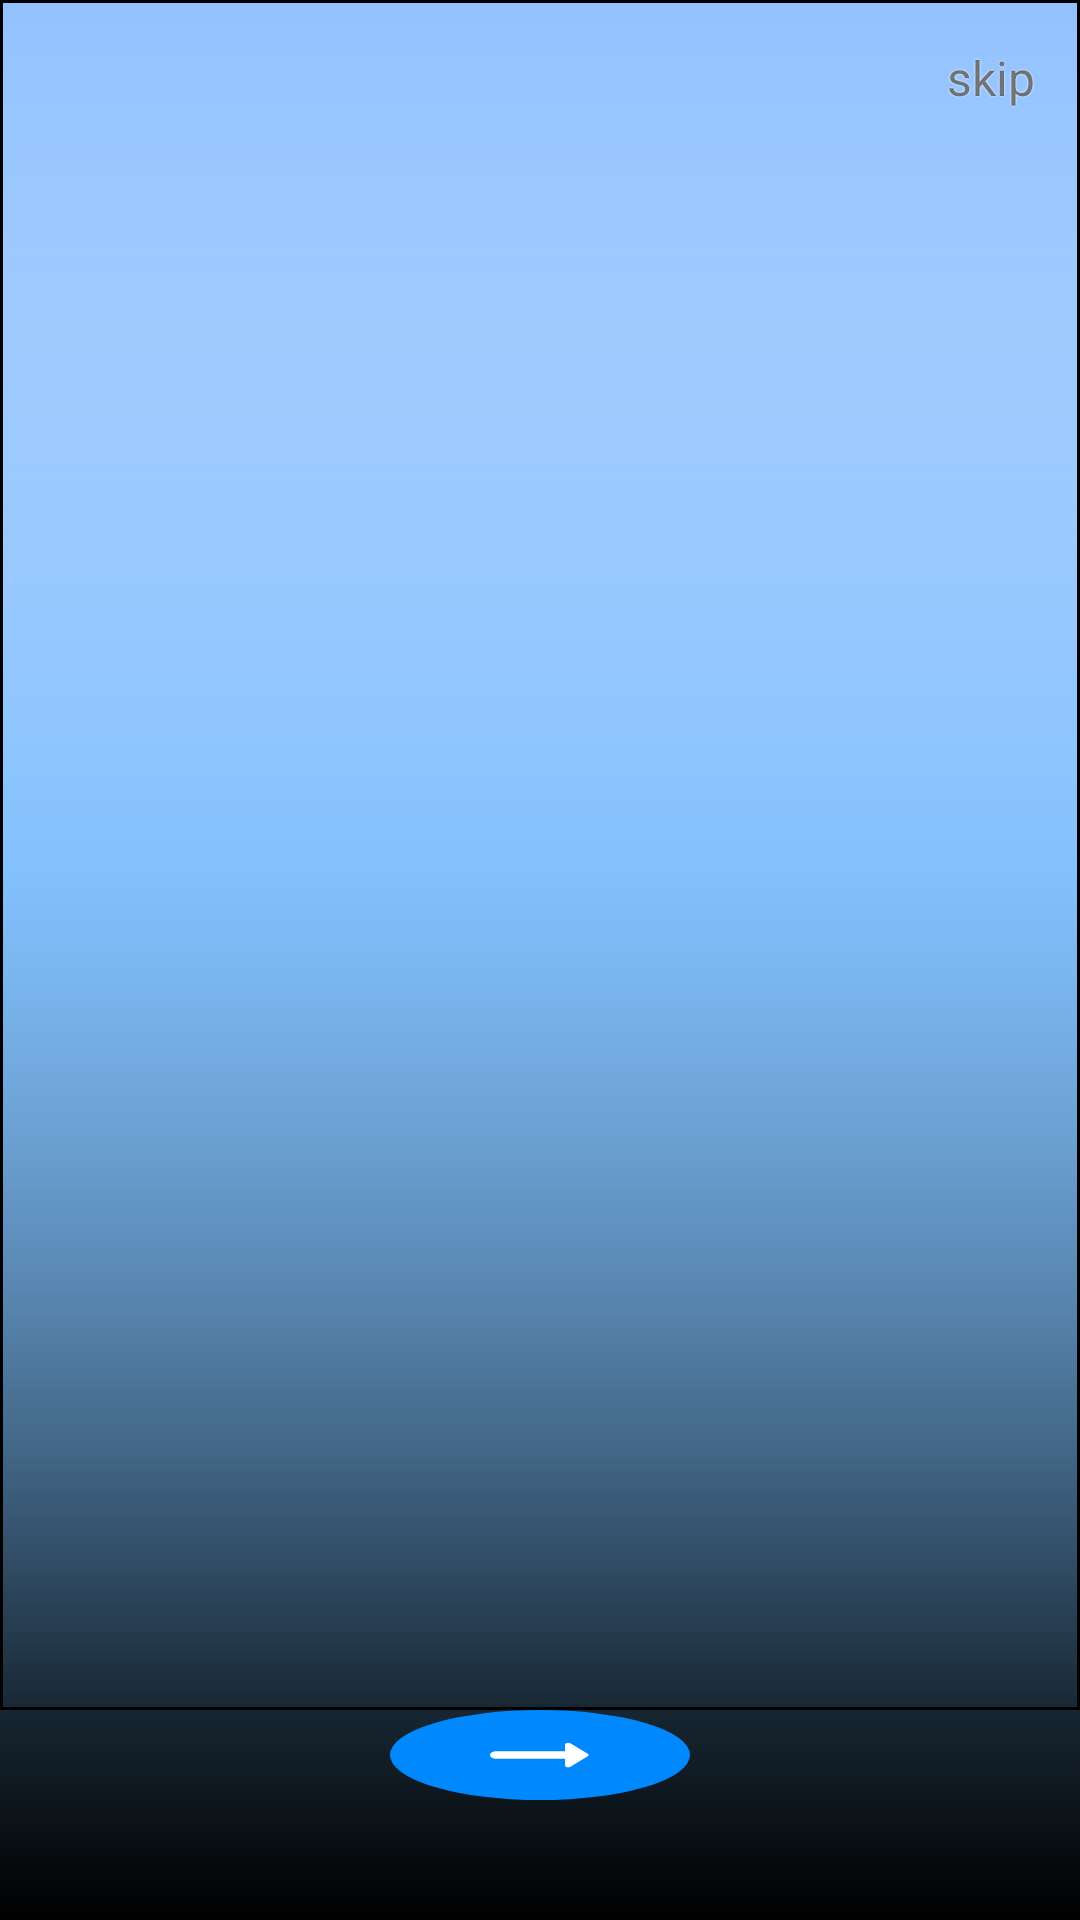

Icons on this 1080 × 1920 Android screen, each with the point to tap as [x,y]:
onboard right: [540,1755]
